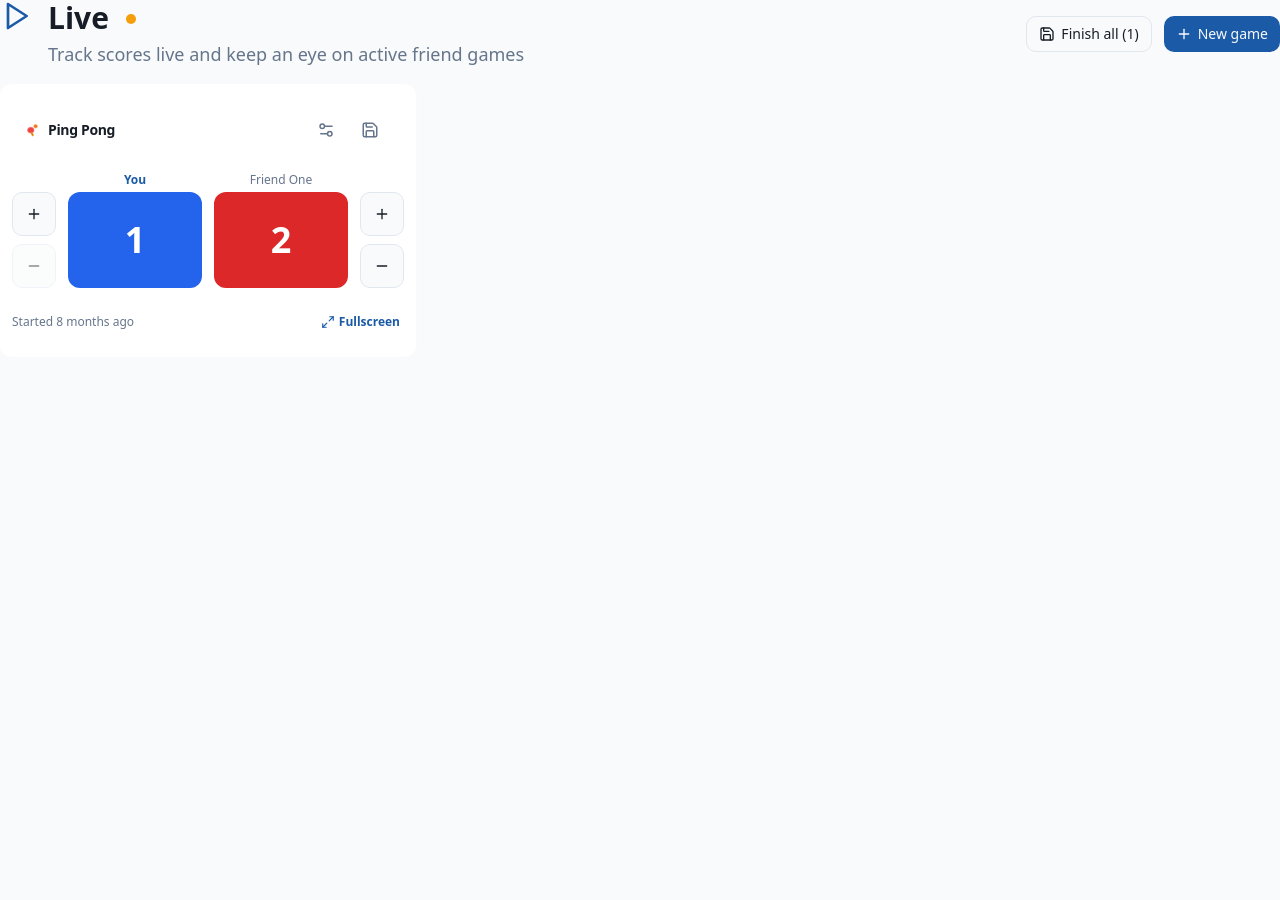
LiveScoreTracker perspective labels › winning streaks › shows the opponent's streak without a taunt picker
Click the button named "Score for Friend One: 2": click(281, 240) [214,192,348,288]
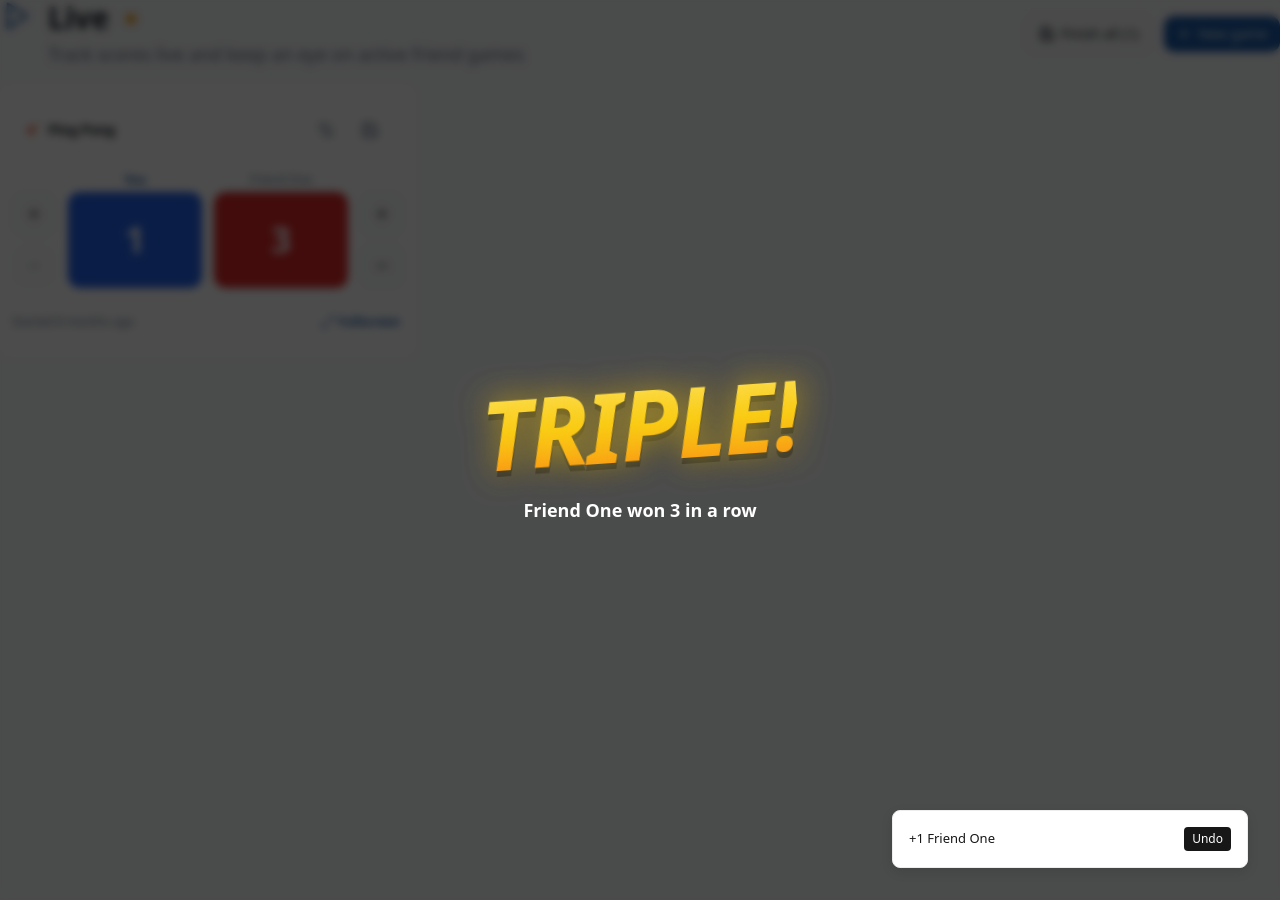
Now the dialog "Triple! Friend One won 3 in a row" is shown
